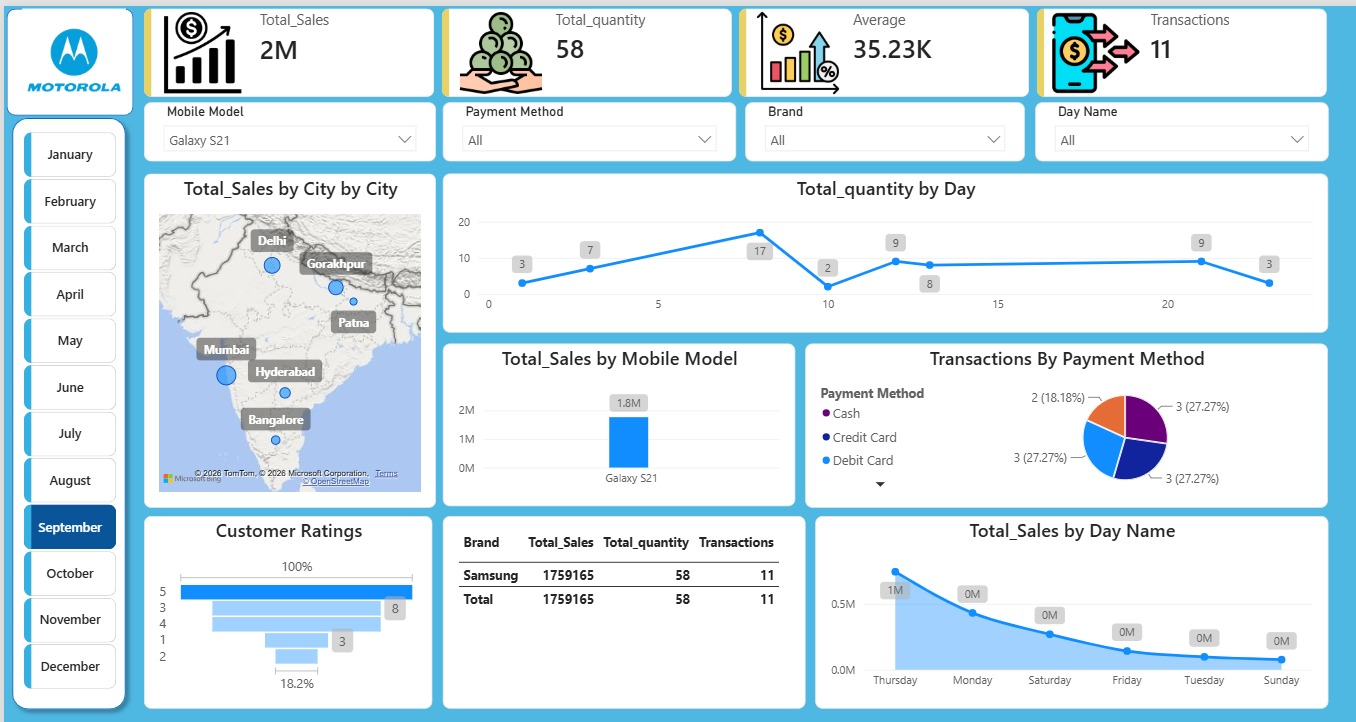

What the dashboard file says about the page in this screenshot:
{"tool":"powerbi","page":{"name":"Page 1","canvas":[1920,1080],"ordinal":0},"visuals":[{"type":"shape","box":[0,113.5,142.4,666.2],"z":0},{"type":"advancedSlicerVisual","fields":{"Values":["Sheet1.Date.Variation.Date Hierarchy.Month"]},"box":[21.6,137.8,101.4,620],"z":1000},{"type":"shape","box":[2.7,2.7,139.2,117.6],"z":2000},{"type":"image","box":[0,2.7,153.4,113.7],"z":3000},{"type":"cardVisual","fields":{"Data":["Sales_Data.Total_Sales","Sales_Data.Total_quantity","Sales_Data.Average","Sales_Data.Total_Transactions"]},"box":[154.1,2.7,1297.3,97.3],"z":4000},{"type":"map","fields":{"Category":["Sales_Data.City"],"Size":["Sales_Data.Total_Sales"]},"box":[154.1,183.8,320.3,366.2],"z":5000},{"type":"lineChart","fields":{"Y":["Sales_Data.Total_quantity"],"Category":["Sales_Data.Date.Variation.Date Hierarchy.Month","Sales_Data.Date.Variation.Date Hierarchy.Day"]},"box":[481.1,183.8,970.3,174.3],"z":6000},{"type":"clusteredColumnChart","fields":{"Category":["Sales_Data.Mobile Model"],"Y":["Sales_Data.Total_Sales"]},"box":[481.1,370.3,386.5,178.4],"z":7000},{"type":"pieChart","title":"Transactions By Payment Method","fields":{"Category":["Sales_Data.Payment Method"],"Y":["CountNonNull(Sales_Data.Transaction ID)"]},"box":[878.4,370.3,573,179.7],"z":8000},{"type":"funnel","title":"Customer Ratings","fields":{"Category":["Sales_Data.Customer Ratings"],"Y":["CountNonNull(Sales_Data.Customer Ratings)"]},"box":[154.1,559.5,316.2,210.8],"z":9000},{"type":"areaChart","fields":{"Category":["Sales_Data.Day Name"],"Y":["Sales_Data.Total_Sales"]},"box":[889.2,559.5,562.2,210.8],"z":10000},{"type":"tableEx","fields":{"Values":["Sales_Data.Brand","Sales_Data.Total_Sales","Sales_Data.Total_quantity","Sales_Data.Transactions"]},"box":[481.1,559.5,397.3,210.8],"z":12000},{"type":"slicer","title":"Customer Ratings","fields":{"Values":["Sales_Data.Mobile Model"]},"box":[154.1,105.4,320.3,64.9],"z":13000},{"type":"slicer","title":"Customer Ratings","fields":{"Values":["Sales_Data.Payment Method"]},"box":[481.1,105.4,321.6,64.9],"z":14000},{"type":"slicer","title":"Customer Ratings","fields":{"Values":["Sales_Data.Brand"]},"box":[812.2,105.4,306.8,64.9],"z":15000},{"type":"slicer","title":"Customer Ratings","fields":{"Values":["Sales_Data.Day Name"]},"box":[1129.7,105.4,321.6,64.9],"z":16000}]}

Visuals, with their boxes on the page's 1920x1080 design canvas (x1, y1, x2, y2). These are canvas units, not pixel positions in the 1356x722 screenshot, which may show the page scaled, cropped or inside an application window:
shape: 0 114 142 780
advancedSlicerVisual - Sheet1.Date.Variation.Date Hierarchy.Month: 22 138 123 758
shape: 3 3 142 120
image: 0 3 153 116
cardVisual - Sales_Data.Total_Sales x Sales_Data.Total_quantity: 154 3 1451 100
map - Sales_Data.City x Sales_Data.Total_Sales: 154 184 474 550
lineChart - Sales_Data.Total_quantity x Sales_Data.Date.Variation.Date Hierarchy.Month: 481 184 1451 358
clusteredColumnChart - Sales_Data.Mobile Model x Sales_Data.Total_Sales: 481 370 868 549
"Transactions By Payment Method" pieChart: 878 370 1451 550
"Customer Ratings" funnel: 154 560 470 770
areaChart - Sales_Data.Day Name x Sales_Data.Total_Sales: 889 560 1451 770
tableEx - Sales_Data.Brand x Sales_Data.Total_Sales: 481 560 878 770
"Customer Ratings" slicer: 154 105 474 170
"Customer Ratings" slicer: 481 105 803 170
"Customer Ratings" slicer: 812 105 1119 170
"Customer Ratings" slicer: 1130 105 1451 170
